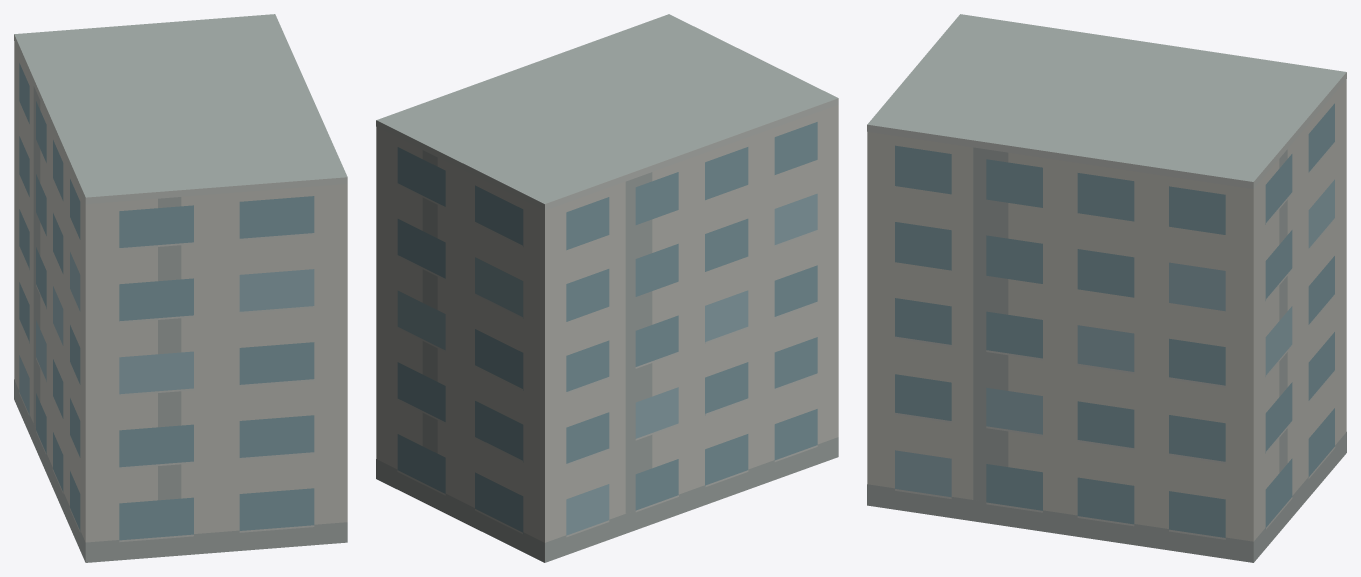
The model's file is survey-upis-32930326.glb.
3 renders of one model, left to right at view 1: azimuth 30°, elevation 25°; view 2: azimuth 150°, elevation 25°; view 3: azimuth 270°, elevation 25°, orthographic. The views are drawn at different scales.
Visible parts, largest first — view 1: survey-upis-32930326.tmp; view 2: survey-upis-32930326.tmp; view 3: survey-upis-32930326.tmp.
Part boxes in pixels (left/top/right/bottom): survey-upis-32930326.tmp: left=14, top=14, right=347, bottom=562; survey-upis-32930326.tmp: left=376, top=14, right=838, bottom=562; survey-upis-32930326.tmp: left=867, top=14, right=1346, bottom=562.
Bounding box in the file's own units: 12.5 × 13.2 × 15.07.
